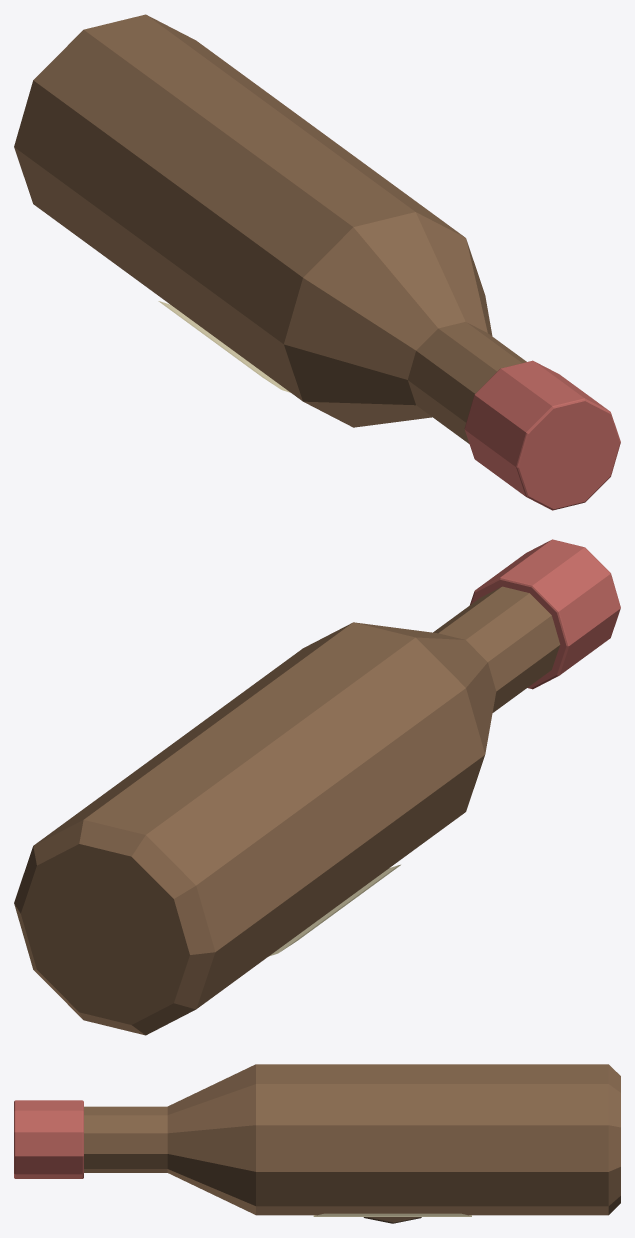
File: soy_sauce.glb
The picture shows the model from 3 angles, top to bottom: view 1: azimuth 30°, elevation 25°; view 2: azimuth 150°, elevation 25°; view 3: azimuth 270°, elevation 25°; orthographic projection. The views are drawn at different scales.
Parts seen in each view (by area): view 1: soy_sauce; view 2: soy_sauce; view 3: soy_sauce.
Part boxes in pixels (box(x1,y1,x2,y2)): soy_sauce: box(14, 14, 620, 510); soy_sauce: box(14, 539, 620, 1035); soy_sauce: box(14, 1064, 620, 1223).
Bounding box in the file's own units: 0.05 × 0.0501 × 0.1995.
